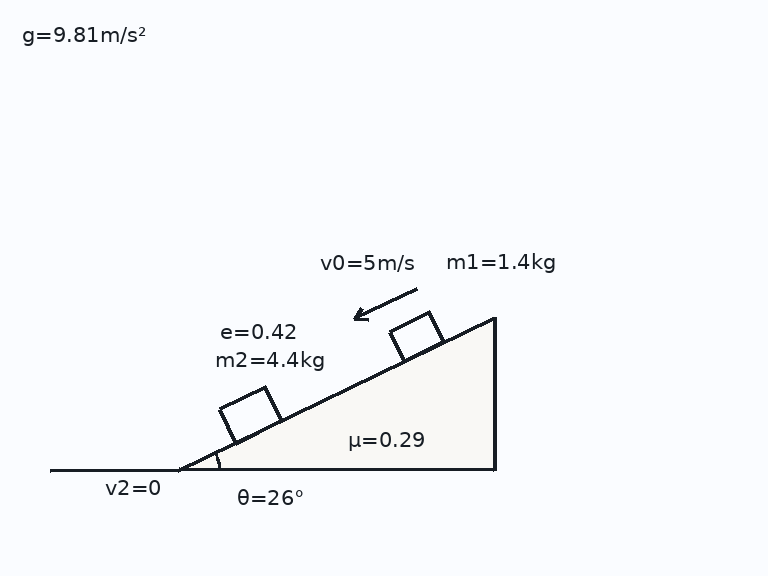block: (217, 385, 283, 445), (387, 310, 445, 363)
ramp: (177, 315, 496, 472)
